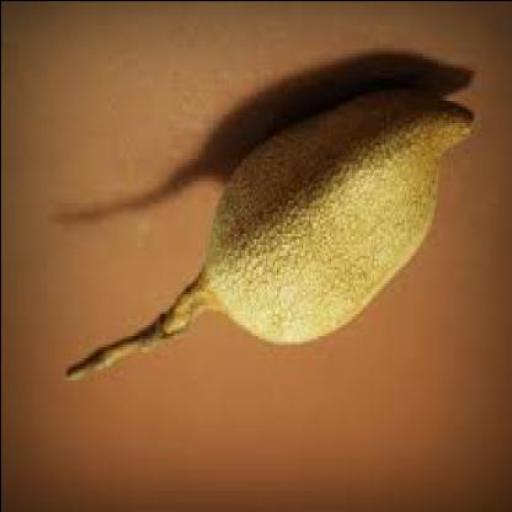biodegradable: (202, 89, 482, 352)
